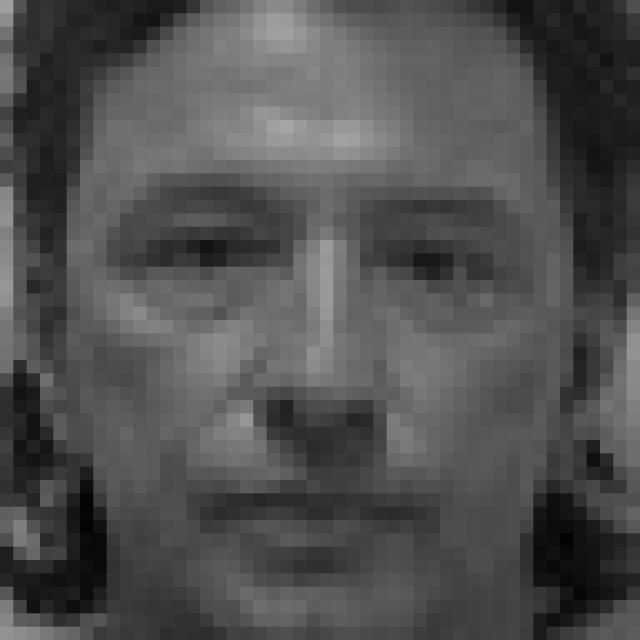neutral: (103, 160, 538, 578)
